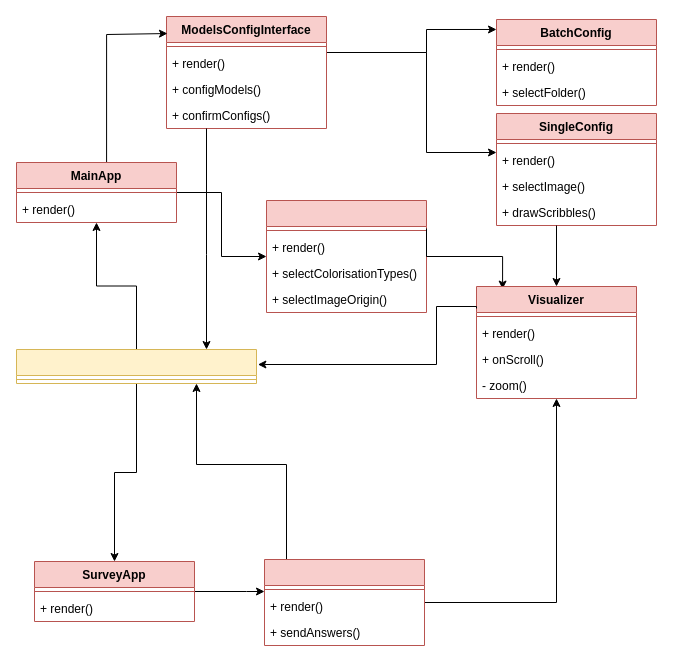
Some shapes in this 673 by 662 pixel diagram are drawn without their labels. The box of each missing label's shape, as (x1, y1, x2, y2) in pixels:
Controller: (16, 348, 256, 384)
ResultsInterface: (266, 200, 426, 312)
Survey: (264, 558, 424, 646)
